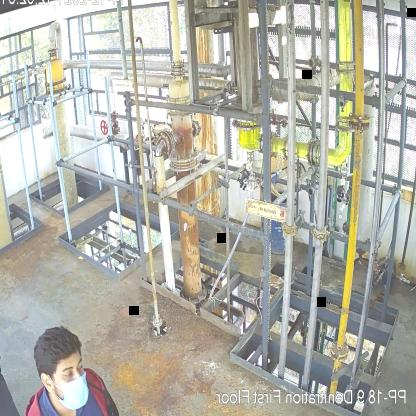no_goggles: (59, 358, 86, 378)
